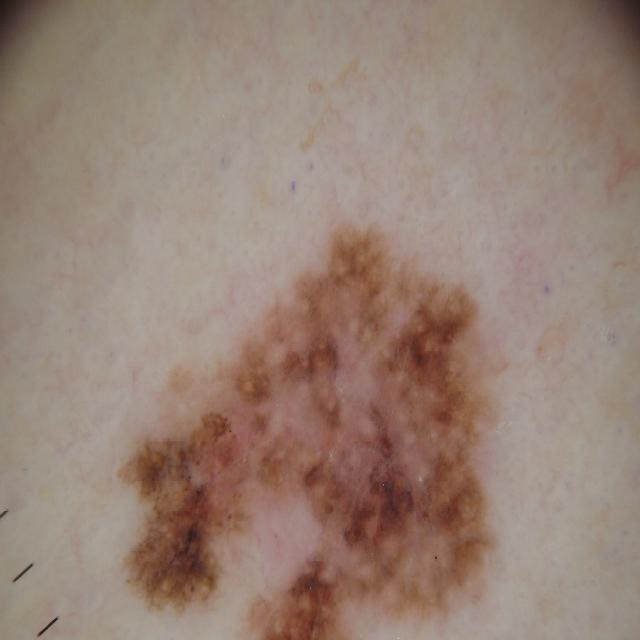Melanoma: (89, 231, 548, 640)
